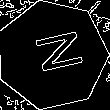N_W: (22, 30, 82, 80)
